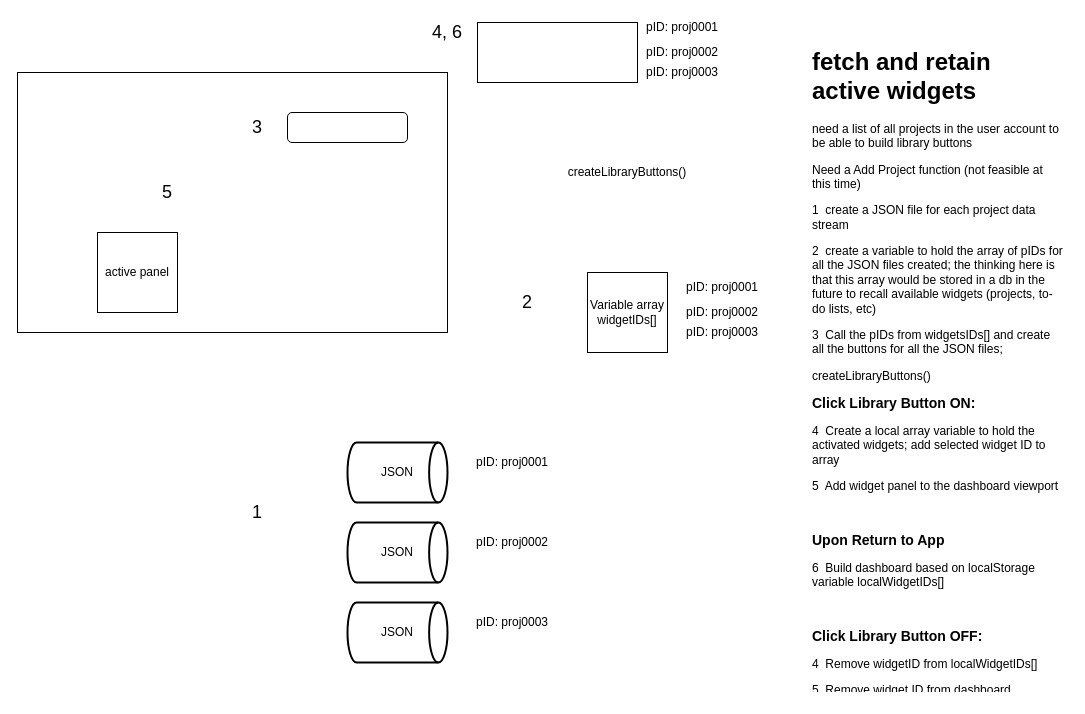
Some shapes in this 1085 by 714 pixel diagram are drawn without their labels. Each missing label, with the centre of its shape:
"library button ON" belongs at [347,127].
"localStorage: Variable array localWidgetIDs[]" belongs at [557,52].
